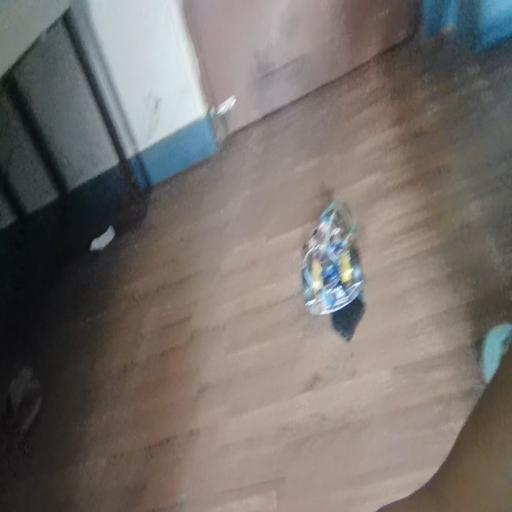car: (315, 247, 367, 324)
